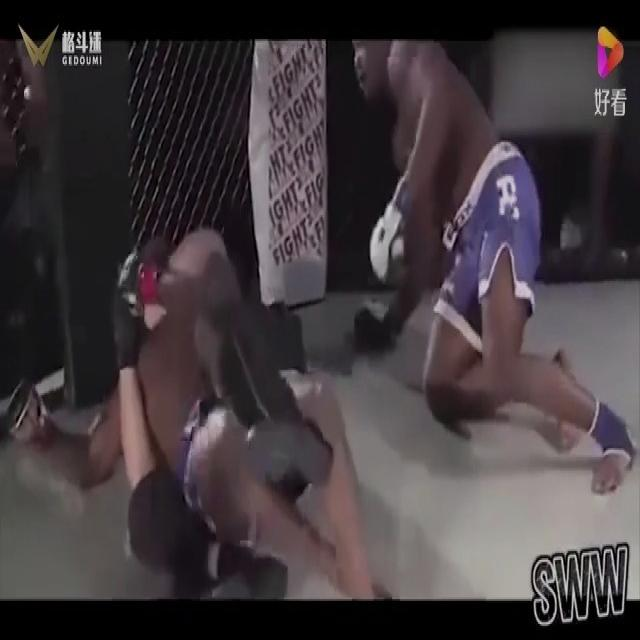fight: (7, 230, 394, 616)
non-fight: (326, 11, 639, 501)
